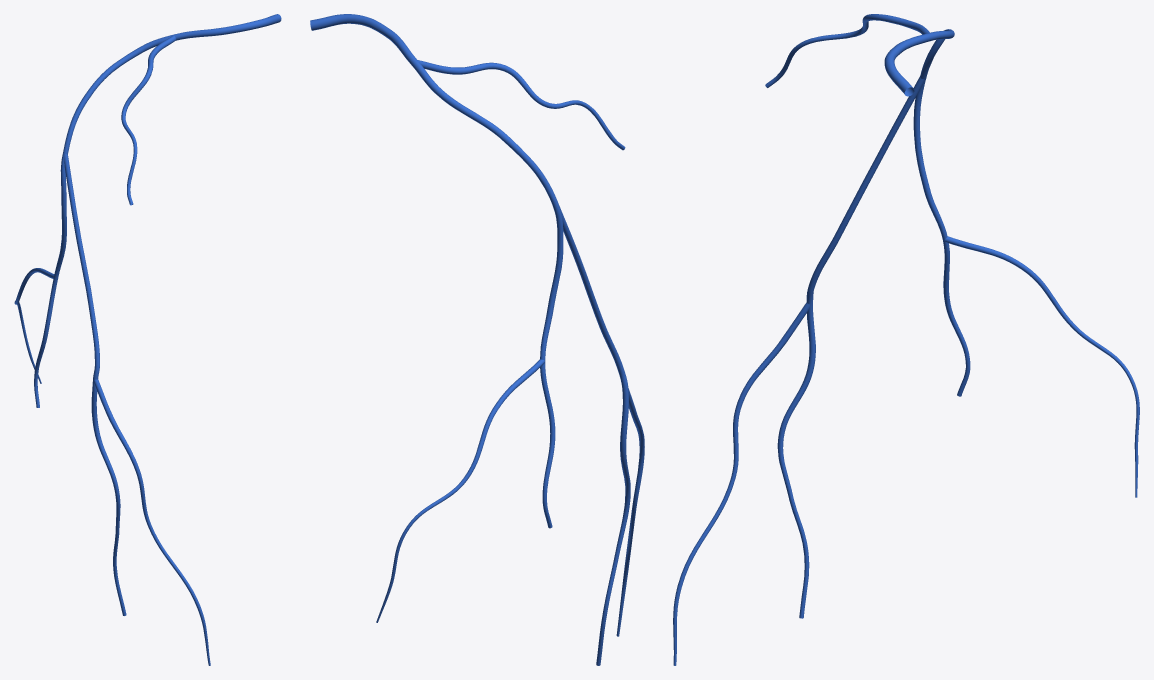
Rendered from circulatorio-right-superior-phrenic-vein.glb.
3 renders of one model, left to right at view 1: azimuth 30°, elevation 25°; view 2: azimuth 150°, elevation 25°; view 3: azimuth 270°, elevation 25°, orthographic. The views are drawn at different scales.
Visible parts, largest first — view 1: Right superior phrenic vein; view 2: Right superior phrenic vein; view 3: Right superior phrenic vein.
Boxes of the visible parts, x1=… form: Right superior phrenic vein: x1=14, y1=14, x2=281, y2=665; Right superior phrenic vein: x1=310, y1=14, x2=644, y2=665; Right superior phrenic vein: x1=673, y1=14, x2=1139, y2=665.
Bounding box in the file's own units: 0.0705 × 0.163 × 0.1006.
